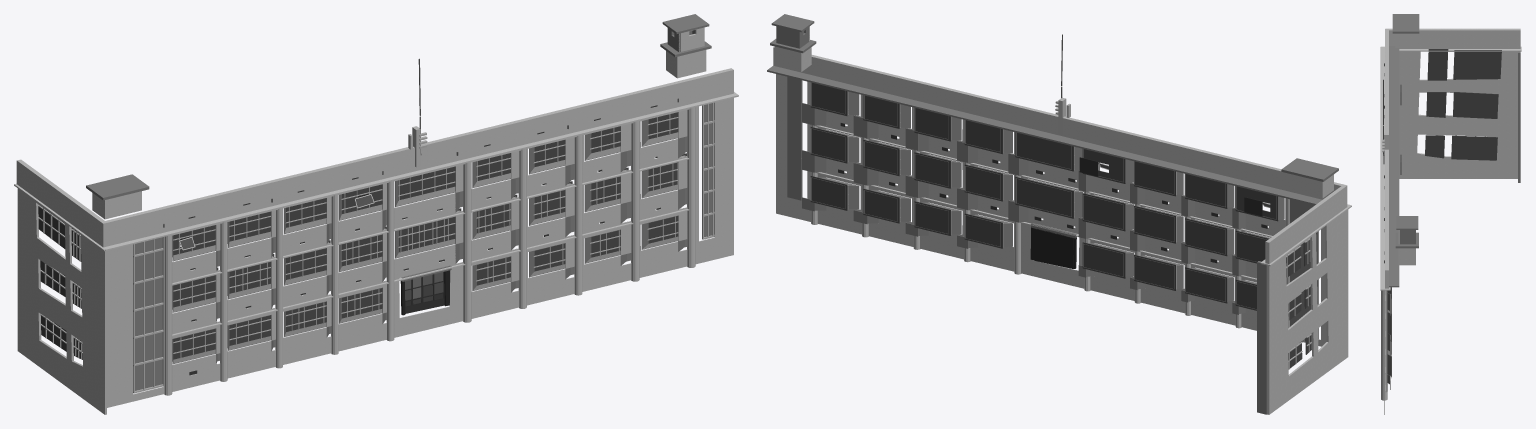
The model's file is huangpu-ruijin-207-historic-roof-ornament-lod.glb.
3 views of the same model, side by side, from view 1: azimuth 30°, elevation 25°; view 2: azimuth 150°, elevation 25°; view 3: azimuth 270°, elevation 25° (orthographic). The views are drawn at different scales.
Visible parts, largest first — view 1: 瑞金二路207号公董局医学化验所历史立面; view 2: 瑞金二路207号公董局医学化验所历史立面; view 3: 瑞金二路207号公董局医学化验所历史立面.
Part boxes in pixels (<box>): 瑞金二路207号公董局医学化验所历史立面: <box>14,14,738,414</box>; 瑞金二路207号公董局医学化验所历史立面: <box>767,14,1351,414</box>; 瑞金二路207号公董局医学化验所历史立面: <box>1380,14,1521,414</box>.
Bounding box in the file's own units: 44.97 × 18.88 × 11.04.
24 materials, 1 textured.
